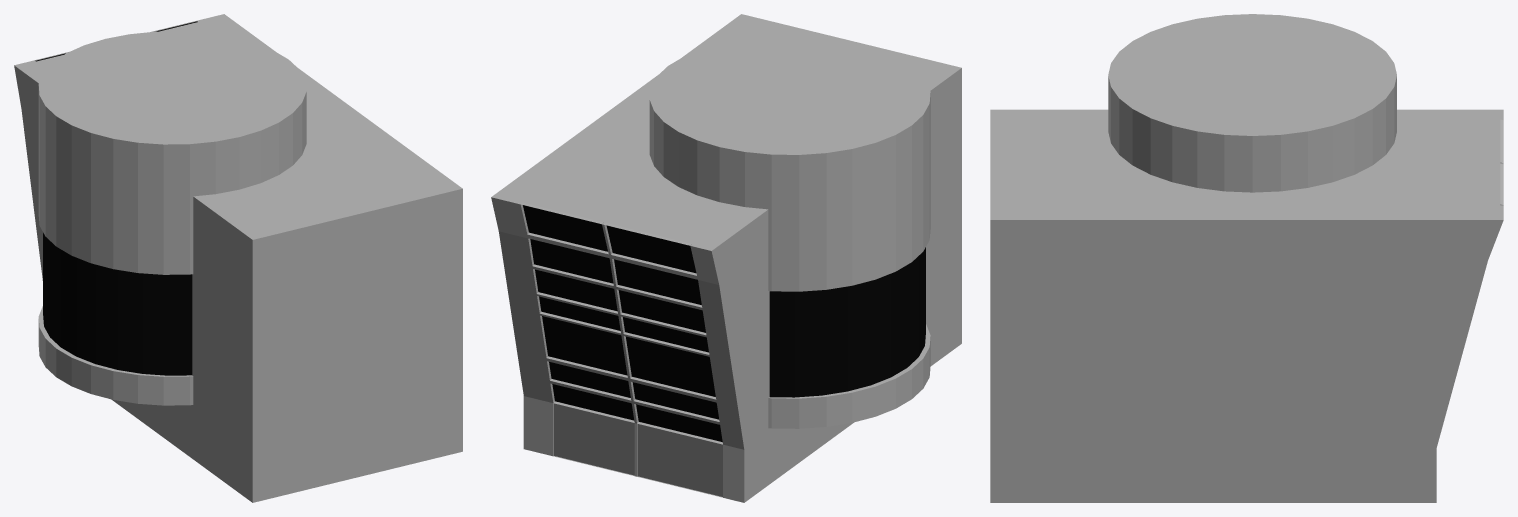
Rendered from PitBuilding_End.fbx.
3 renders of one model, left to right at view 1: azimuth 30°, elevation 25°; view 2: azimuth 150°, elevation 25°; view 3: azimuth 270°, elevation 25°, orthographic. The views are drawn at different scales.
Parts seen in each view (by area): view 1: pit building end; view 2: pit building end; view 3: pit building end.
Boxes of the visible parts, x1,y1,x2,y2 form: pit building end: (14, 14, 462, 502); pit building end: (491, 14, 961, 502); pit building end: (990, 14, 1503, 502).
Size of the model in its own units: 2875 by 3046 by 4175.
1 material, 1 textured.
